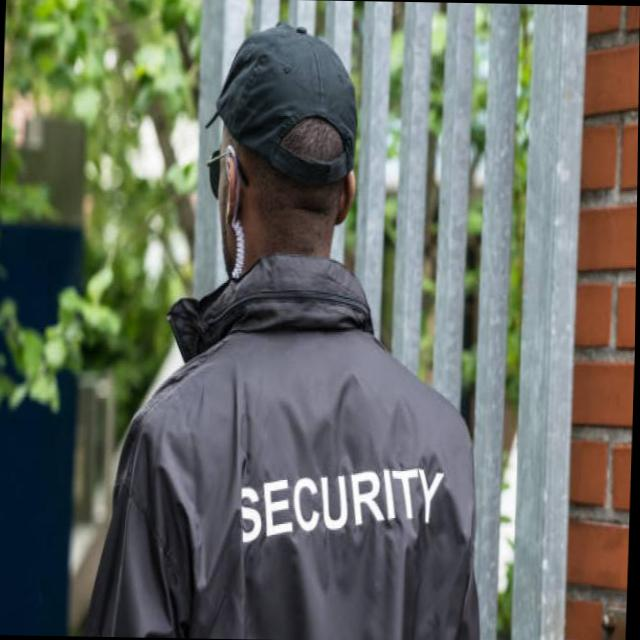no helmet: (198, 13, 366, 310)
